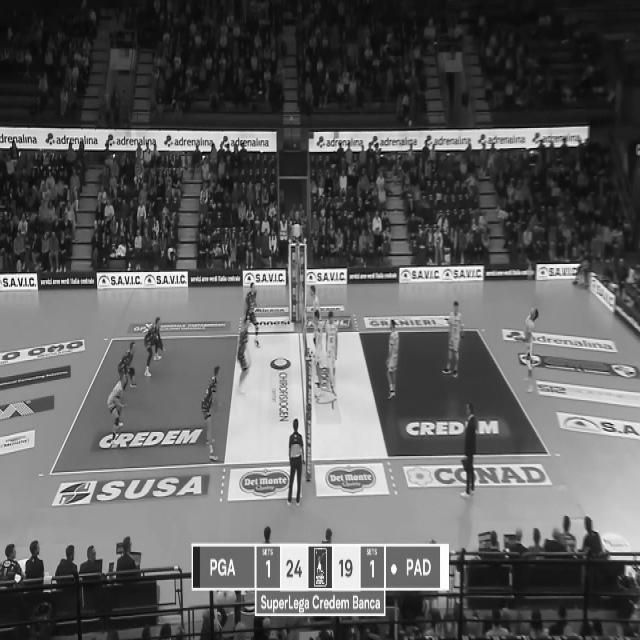volleyball court: (51, 325, 550, 474)
